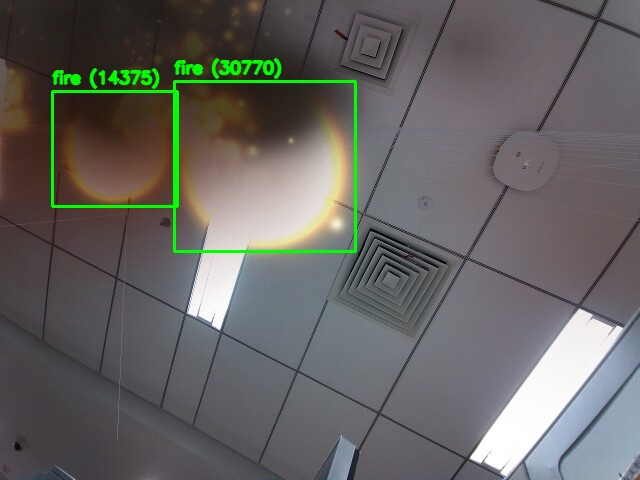fire: (174, 81, 355, 251), (52, 91, 177, 206)
